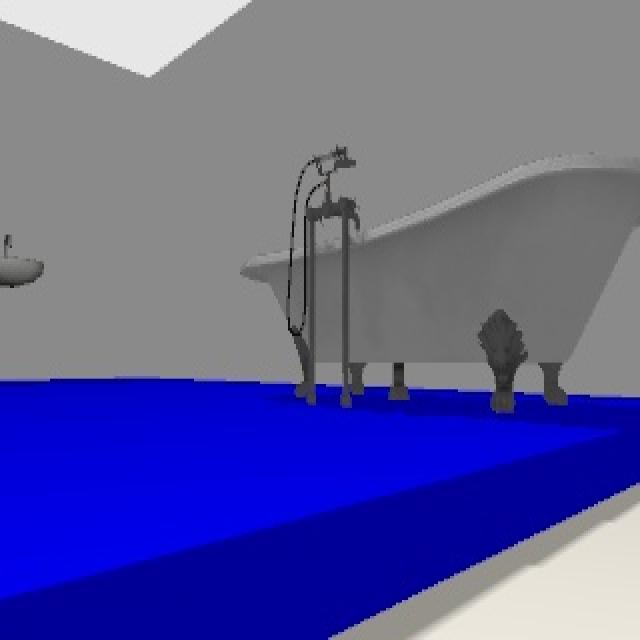bathtub: (241, 144, 640, 416)
